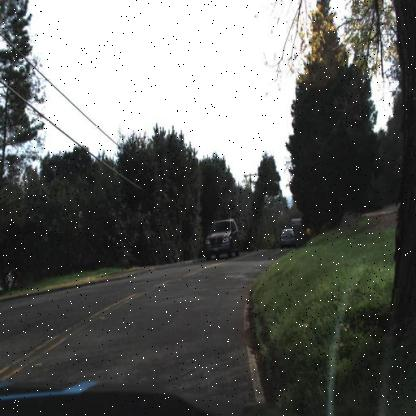car: (202, 219, 245, 266), (204, 216, 240, 263), (278, 223, 296, 252)
